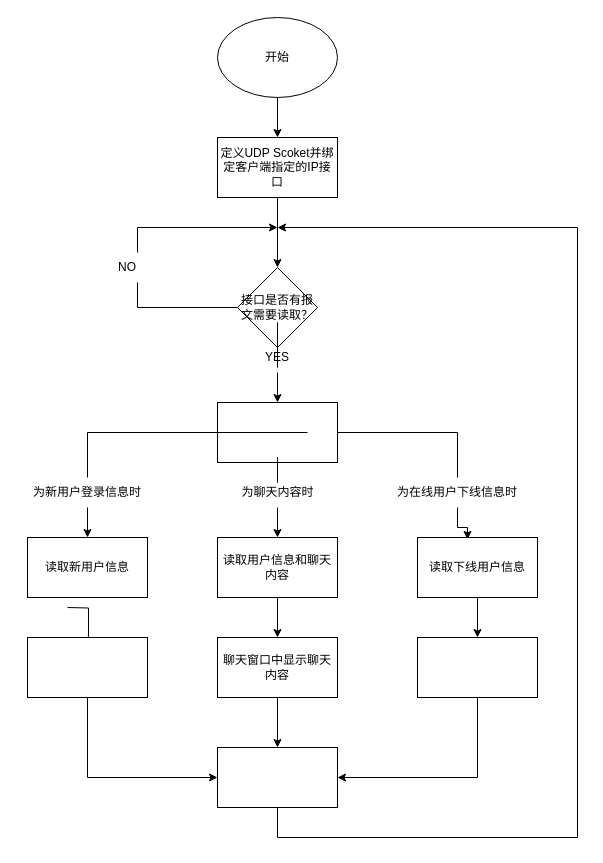
Some shapes in this 603 by 863 pixel diagram are drawn without their labels. Each missing label, with the centre of its shape:
"当前消息处理完毕" belongs at point (277, 777).
"用户列表中删除下线用户信息" belongs at point (477, 667).
"用户列表中添加新用户信息" belongs at point (87, 667).
"读取第一个数据并判断消息类型" belongs at point (277, 432).
